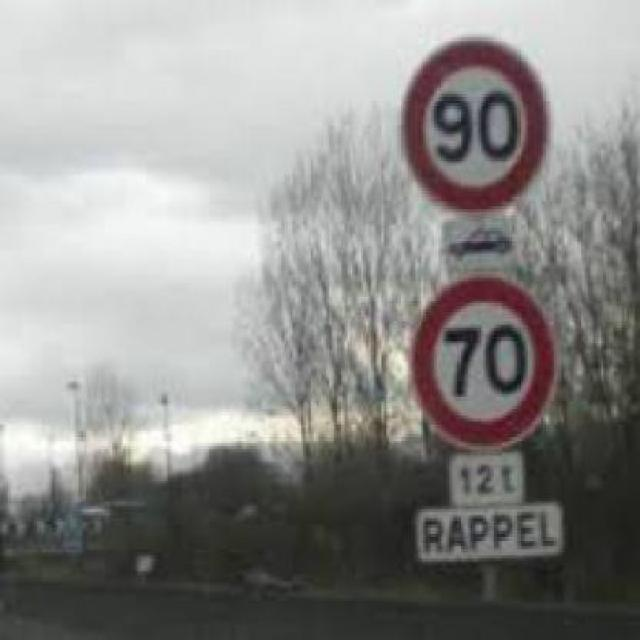forb_speed_over_70: (416, 273, 562, 449)
